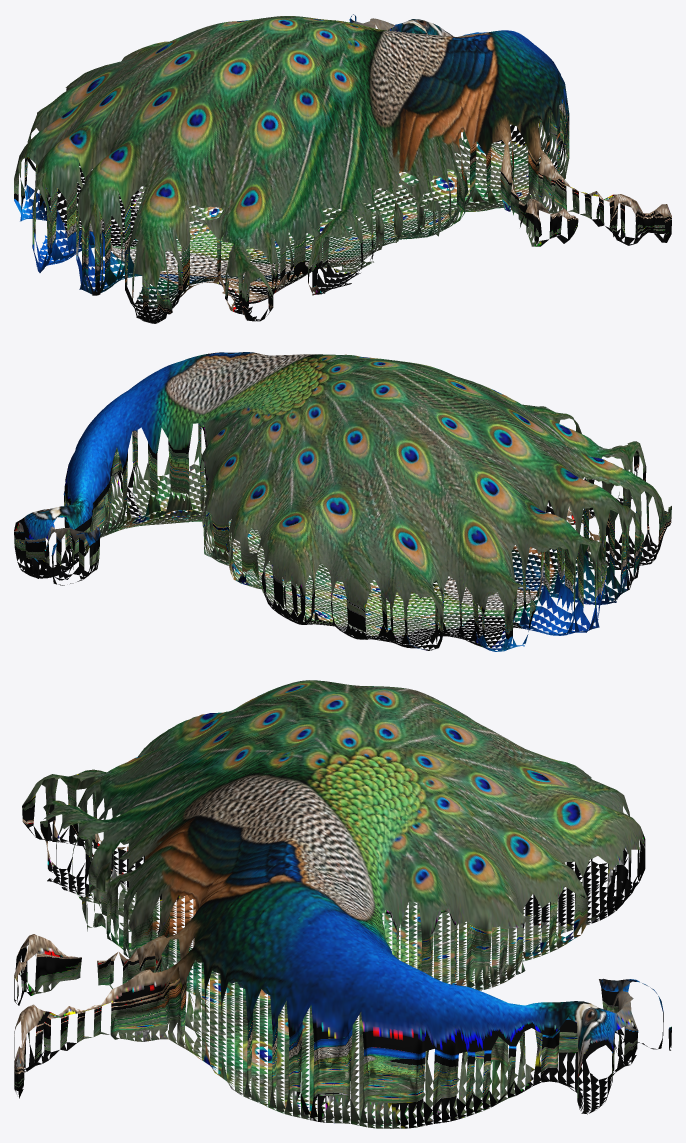
File: peacock.glb
3 views of the same model, one above another, from view 1: azimuth 30°, elevation 25°; view 2: azimuth 150°, elevation 25°; view 3: azimuth 270°, elevation 25° (orthographic). The views are drawn at different scales.
Visible parts, largest first — view 1: peacock_obj; view 2: peacock_obj; view 3: peacock_obj.
Part boxes in pixels (left/top/right/bottom): peacock_obj: left=14, top=14, right=671, bottom=323; peacock_obj: left=14, top=352, right=671, bottom=651; peacock_obj: left=14, top=680, right=671, bottom=1128.
Bounding box in the file's own units: 1.87 × 0.79 × 1.65.
1 material, 1 textured.
